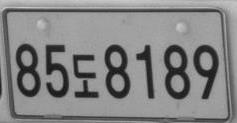1: (134, 44, 161, 99)
5: (45, 44, 70, 99)
8: (162, 43, 191, 100), (103, 42, 131, 99), (14, 42, 41, 98)
9: (192, 44, 220, 100)
도: (72, 53, 99, 99)
